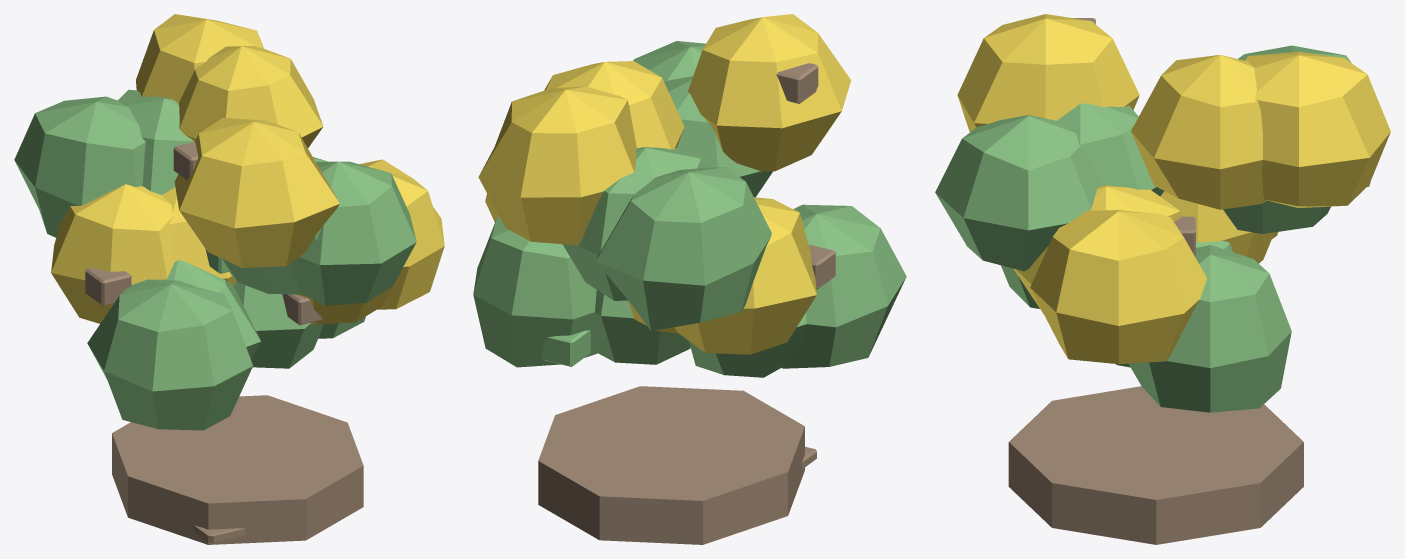
File: b08_daylily_clump.glb
3 views of the same model, side by side, from view 1: azimuth 30°, elevation 25°; view 2: azimuth 150°, elevation 25°; view 3: azimuth 270°, elevation 25° (orthographic). The views are drawn at different scales.
Visible parts, largest first — view 1: b08_daylily_clump; view 2: b08_daylily_clump; view 3: b08_daylily_clump.
Part boxes in pixels (x1=…): b08_daylily_clump: x1=14, y1=14, x2=444, y2=544; b08_daylily_clump: x1=473, y1=14, x2=906, y2=544; b08_daylily_clump: x1=935, y1=14, x2=1390, y2=544.
Bounding box in the file's own units: 0.726 × 0.81 × 0.744.
